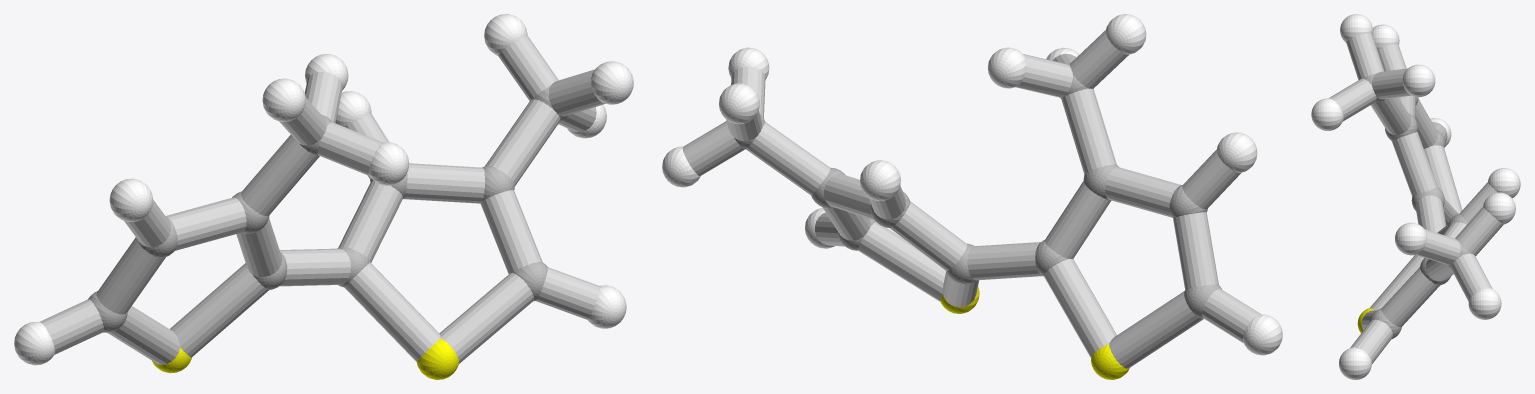
The model's file is Methylthiophene_Phi_25_Theta_120_Methylthiophene.glb.
3 renders of one model, left to right at view 1: azimuth 30°, elevation 25°; view 2: azimuth 150°, elevation 25°; view 3: azimuth 270°, elevation 25°, orthographic. The views are drawn at different scales.
Parts seen in each view (by area): view 1: grp7965, grp3621, grp1, grp7241; view 2: grp7965, grp3621, grp1, grp7241; view 3: grp7965, grp3621, grp1.
Part boxes in pixels (bbox=[...]): grp7965: bbox=[40, 35, 605, 364]; grp3621: bbox=[14, 14, 633, 365]; grp1: bbox=[88, 86, 567, 332]; grp7241: bbox=[152, 338, 458, 379]; grp7965: bbox=[682, 30, 1260, 368]; grp3621: bbox=[662, 14, 1282, 355]; grp1: bbox=[734, 63, 1221, 318]; grp7241: bbox=[940, 286, 1129, 379]; grp7965: bbox=[1329, 33, 1503, 363]; grp3621: bbox=[1311, 14, 1520, 379]; grp1: bbox=[1363, 74, 1470, 338].
Bounding box in the file's own units: 9.84 × 5.25 × 3.8.
